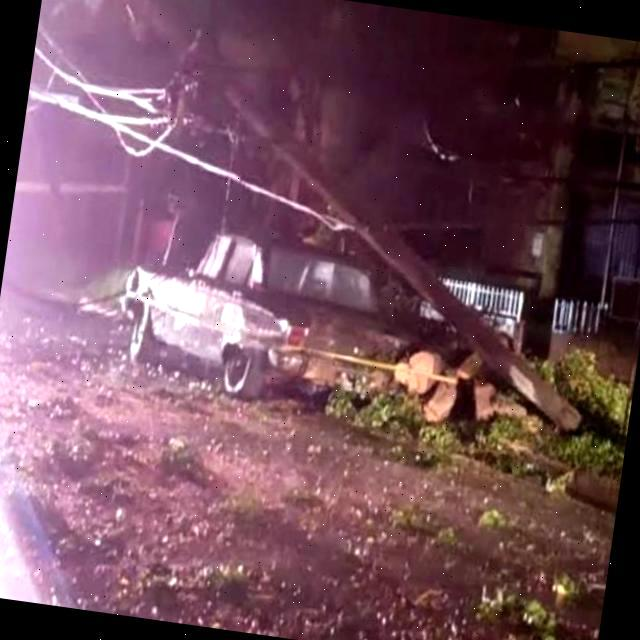Broken Pole: (119, 0, 589, 436)
